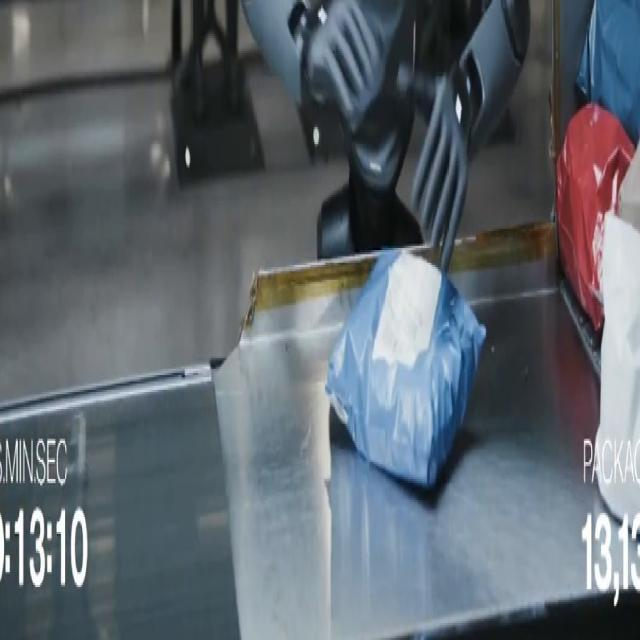package: (326, 251, 485, 487), (556, 104, 634, 332), (592, 217, 639, 527), (577, 0, 639, 144), (619, 149, 639, 230)
